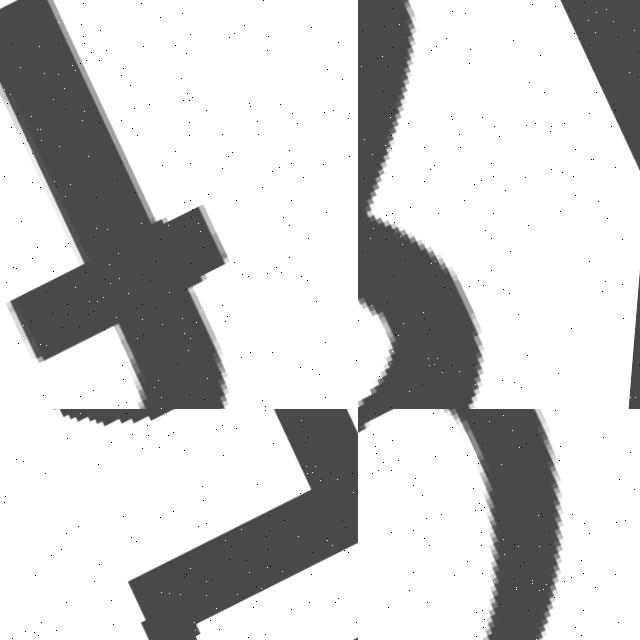5: (0, 409, 358, 640)
8: (358, 0, 640, 409)
D: (358, 409, 640, 640)
F: (0, 0, 358, 409)
